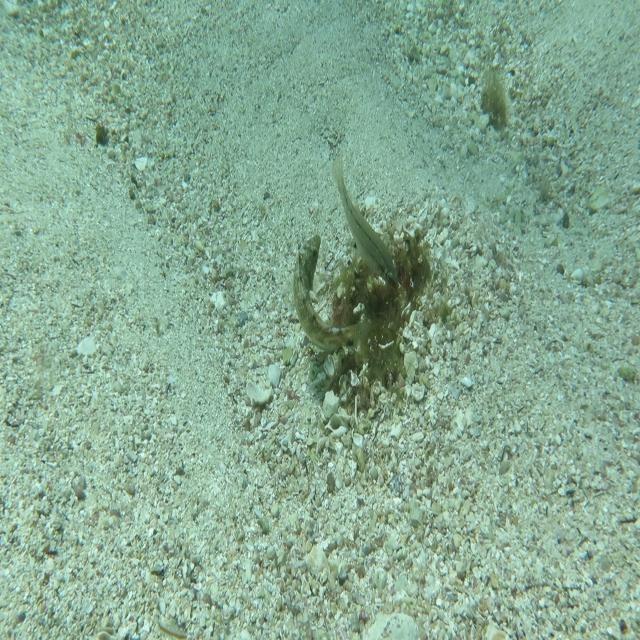BEND: (291, 232, 374, 356)
female: (331, 153, 399, 290)
nest: (314, 216, 442, 419)
